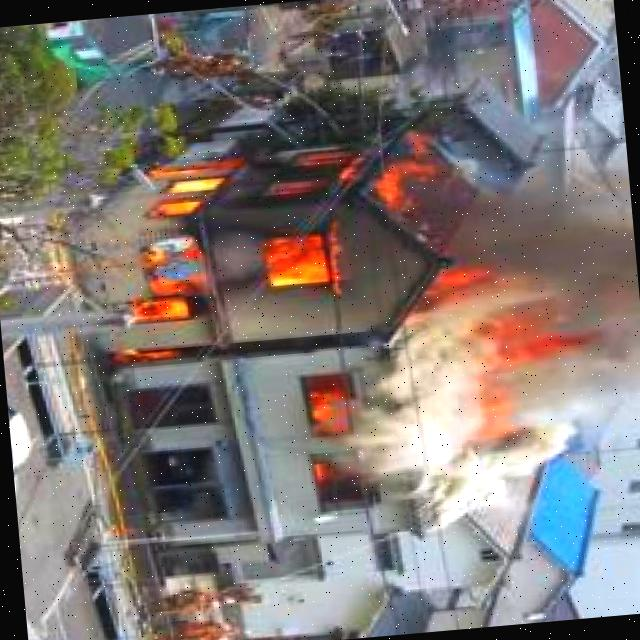fire: (114, 126, 454, 330), (478, 291, 592, 367), (433, 257, 500, 295), (301, 383, 347, 432), (303, 449, 351, 493)
